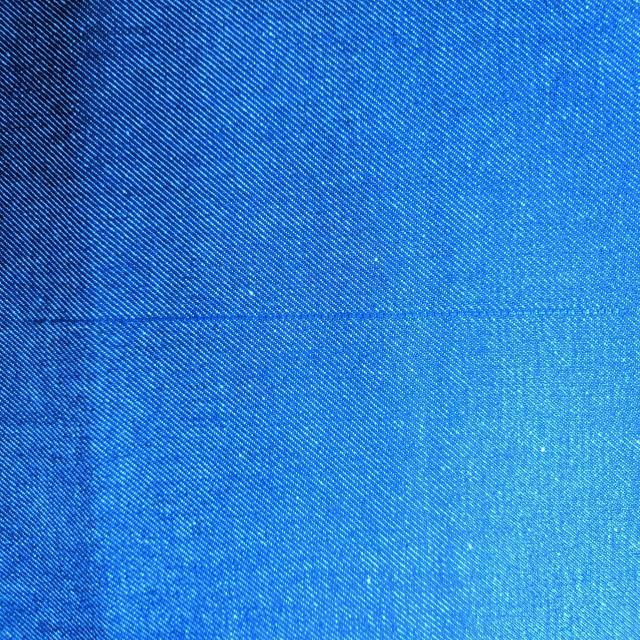Line: (9, 302, 639, 328)
